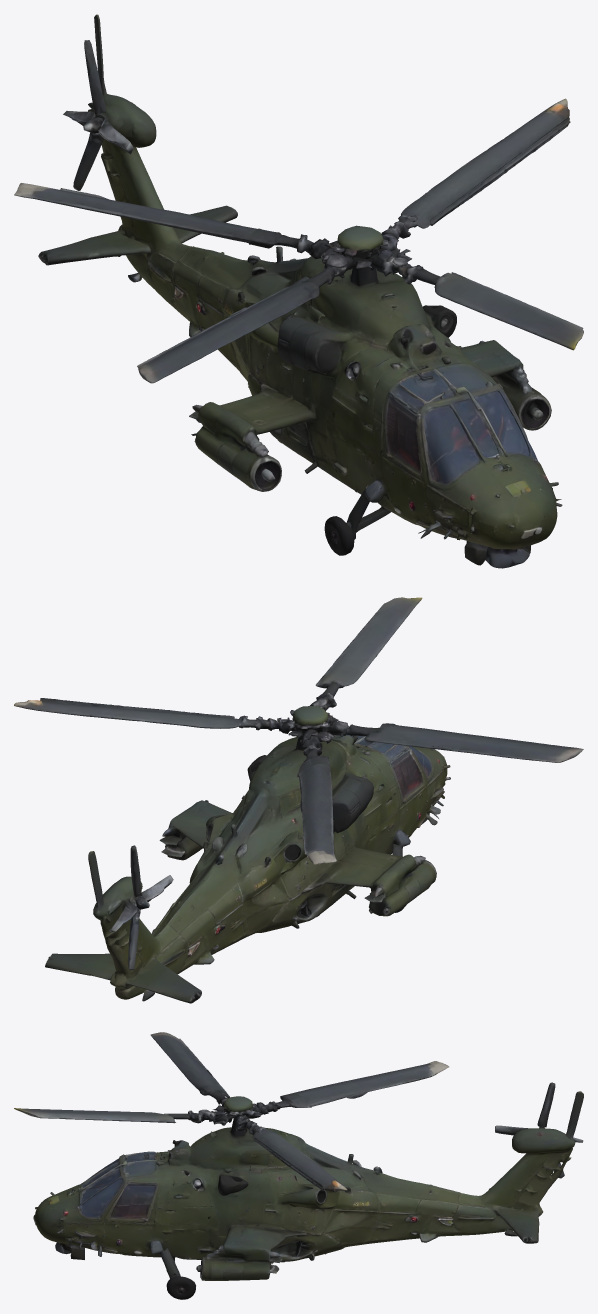
The model's file is akrep.glb.
3 views of the same model, one above another, from view 1: azimuth 30°, elevation 25°; view 2: azimuth 150°, elevation 25°; view 3: azimuth 270°, elevation 25° (orthographic). The views are drawn at different scales.
Visible parts, largest first — view 1: tripo_node_f1c64a07-6c1c-42dc-af1f-90656f0dfcf9; view 2: tripo_node_f1c64a07-6c1c-42dc-af1f-90656f0dfcf9; view 3: tripo_node_f1c64a07-6c1c-42dc-af1f-90656f0dfcf9.
Part boxes in pixels (box(x1,y1,x2,y2)): tripo_node_f1c64a07-6c1c-42dc-af1f-90656f0dfcf9: box(14, 14, 583, 568); tripo_node_f1c64a07-6c1c-42dc-af1f-90656f0dfcf9: box(14, 597, 583, 1003); tripo_node_f1c64a07-6c1c-42dc-af1f-90656f0dfcf9: box(14, 1032, 583, 1299).
Size of the model in its own units: 0.7288 by 0.3539 by 1.
Materials: 1 (1 with a texture image).
